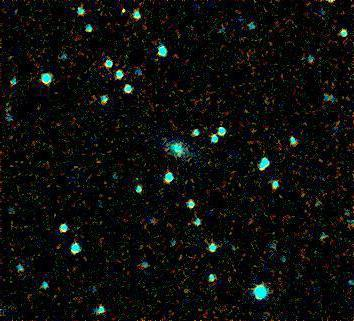star: (45, 232, 75, 262)
